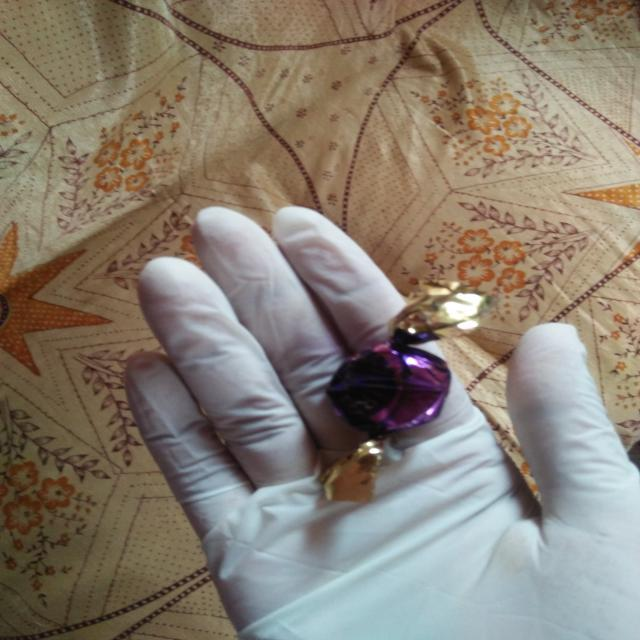glove_hand: (123, 205, 634, 640)
